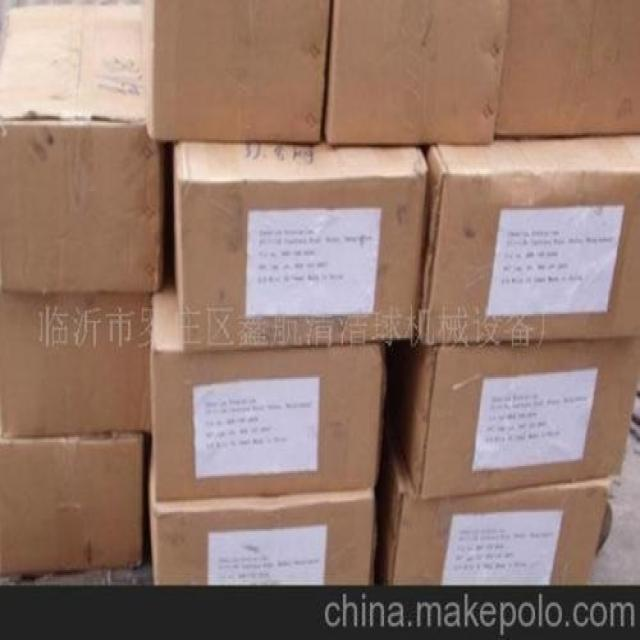box: (172, 138, 428, 353), (152, 276, 387, 498), (0, 3, 163, 292), (417, 135, 640, 346), (401, 338, 640, 498), (147, 433, 378, 589), (383, 447, 611, 589), (324, 0, 511, 145), (145, 0, 329, 143), (0, 290, 152, 437), (0, 433, 143, 577), (494, 0, 640, 138)
